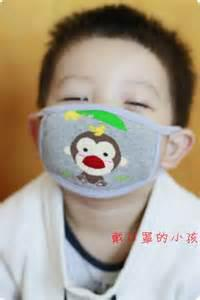OK: (47, 80, 168, 201)
